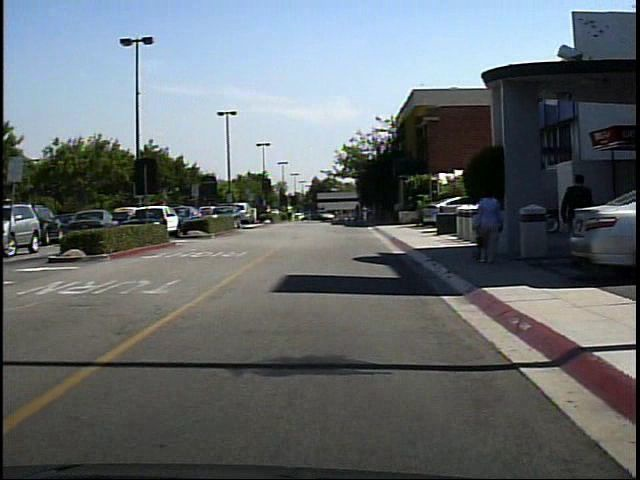person: (561, 164, 608, 274), (477, 185, 508, 266), (483, 189, 506, 264), (361, 204, 374, 228), (292, 202, 303, 226)
